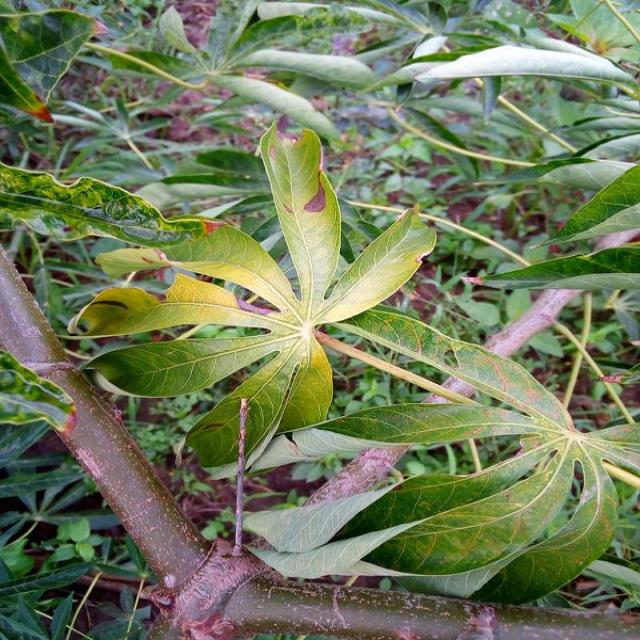cassava leaf: (68, 117, 636, 606)
